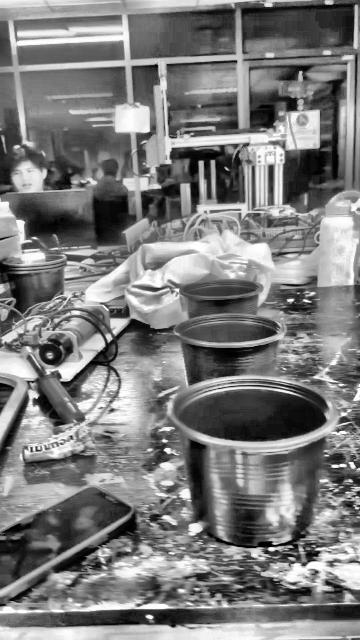pot: (169, 375, 338, 545), (175, 313, 285, 385), (1, 258, 69, 323), (181, 280, 263, 318)
